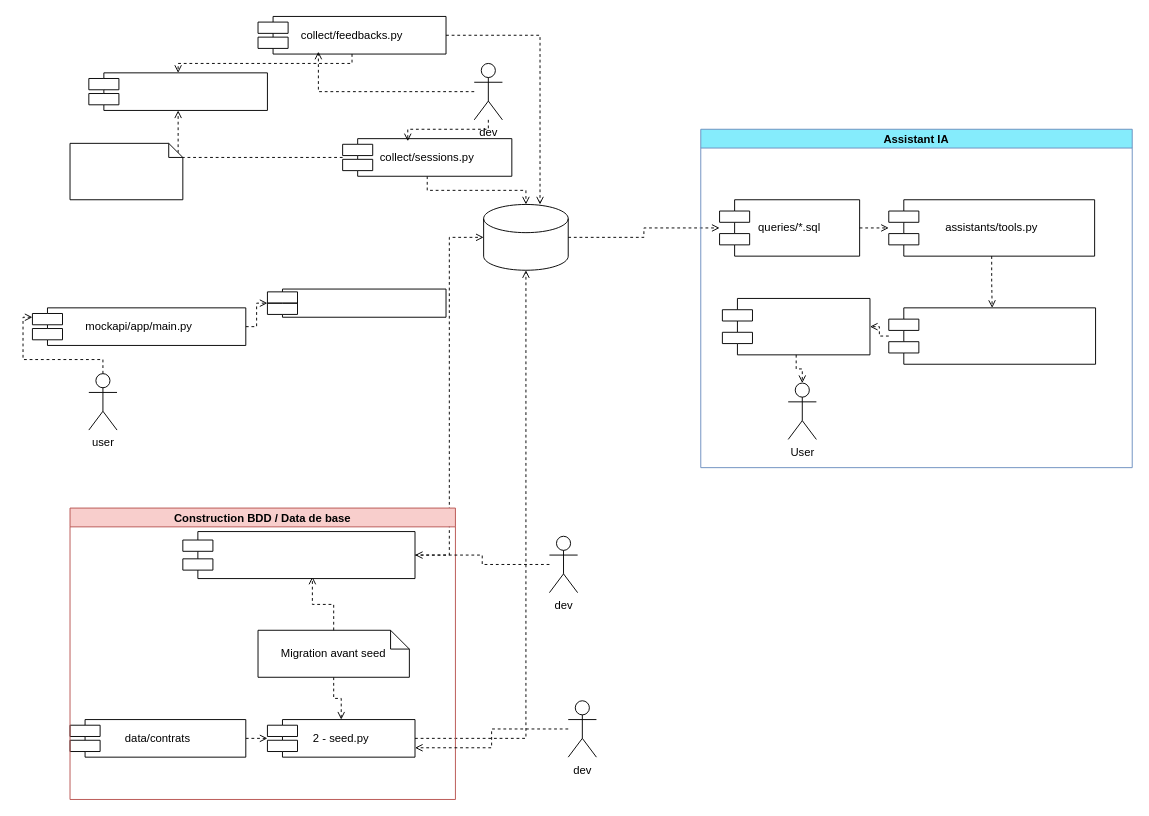
Some shapes in this 1149 by 816 pixel diagram are drawn without their labels. The shapes that lost their labels are listed below. From the top down, each one's centre as x and y in pixels, then its label:
point 177,91: collect/_common.py
point 126,171: A lier API Collect
point 525,237: PostgreSQL
point 356,302: ./seed.py
point 795,326: scripts/chat.py
point 992,335: assistant/agent.py
point 298,555: 1 - Migration construit les tables
